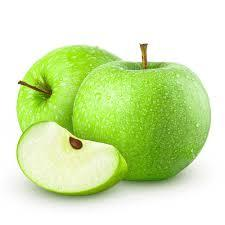apple: (79, 65, 214, 186), (11, 121, 129, 202), (16, 44, 105, 133)
